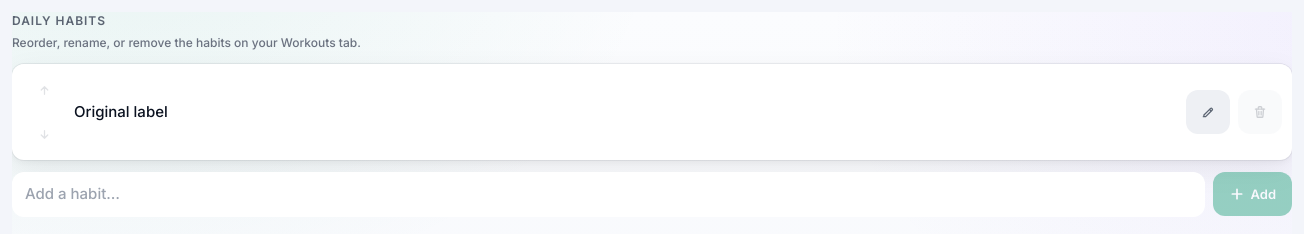
it: B3: Cancel on a habit rename does not save the draft › clicking Cancel after typing a draft (mousedown-then-click) leaves the label unchanged
Click the button named "Rename Original label": (1208, 112) [1186, 90, 1230, 134]
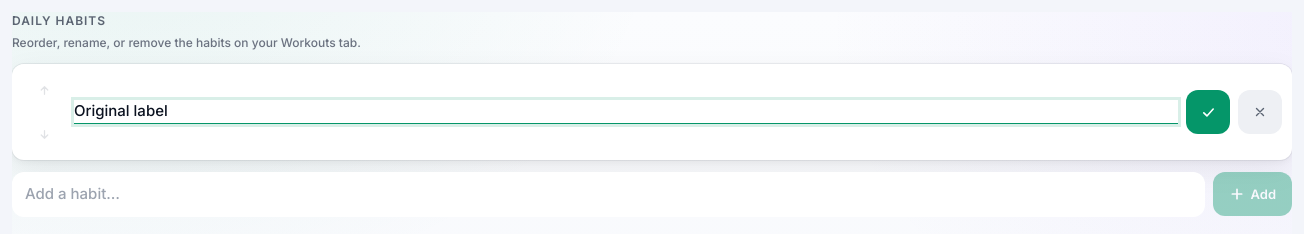
Replace the text in the field named "Habit name" with "Accidental draft": (626, 112) [74, 100, 1178, 124]
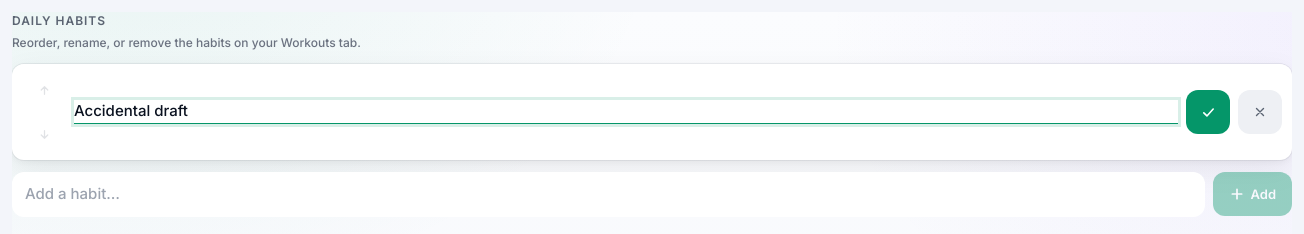
Click the button named "Cancel": (1260, 112) [1238, 90, 1282, 134]
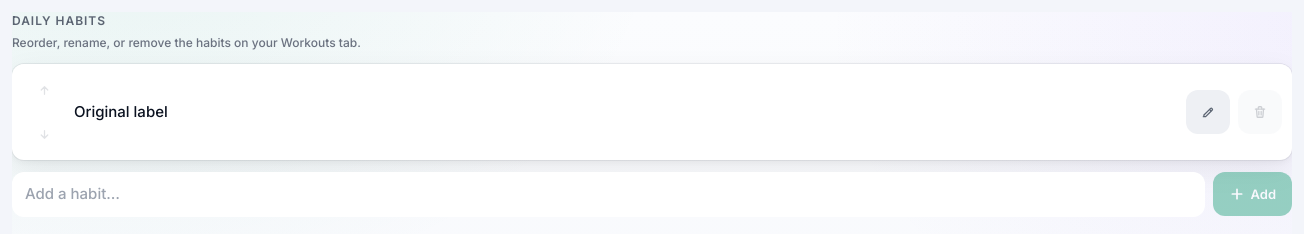
expect the text "Original label" is shown: met, box [74, 102, 168, 121]
